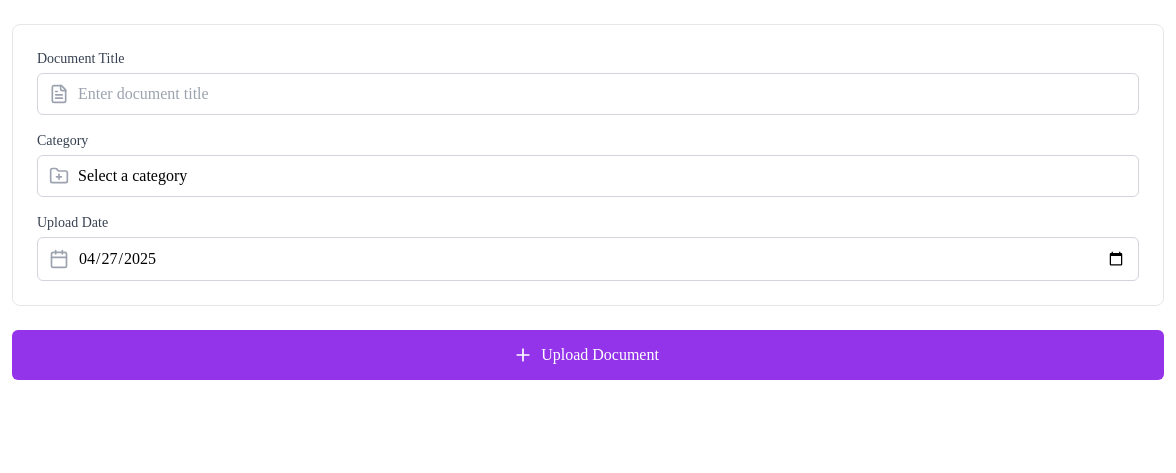
it: UploadForm Component › should show validation errors on submit if fields missing
What coordinates should you click on to do the following:
click the button "Upload Document"
I would click on:
 (588, 355)
Its box is left=12, top=330, right=1164, bottom=380.
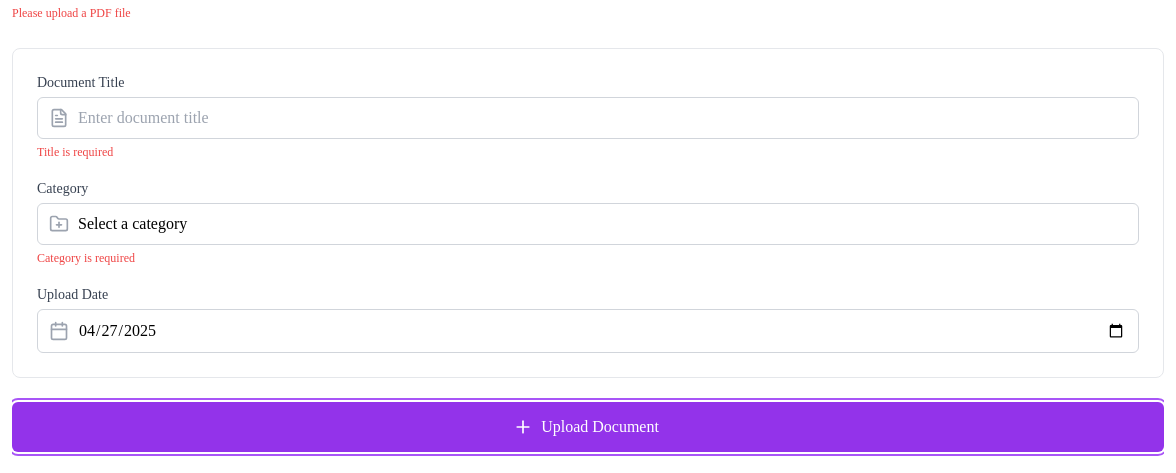
Now the text "Title is required" is shown, box left=37, top=145, right=113, bottom=159
Now the text "Category is required" is shown, box left=37, top=251, right=135, bottom=265
Now the text "Please upload a PDF file" is shown, box left=12, top=6, right=131, bottom=20
